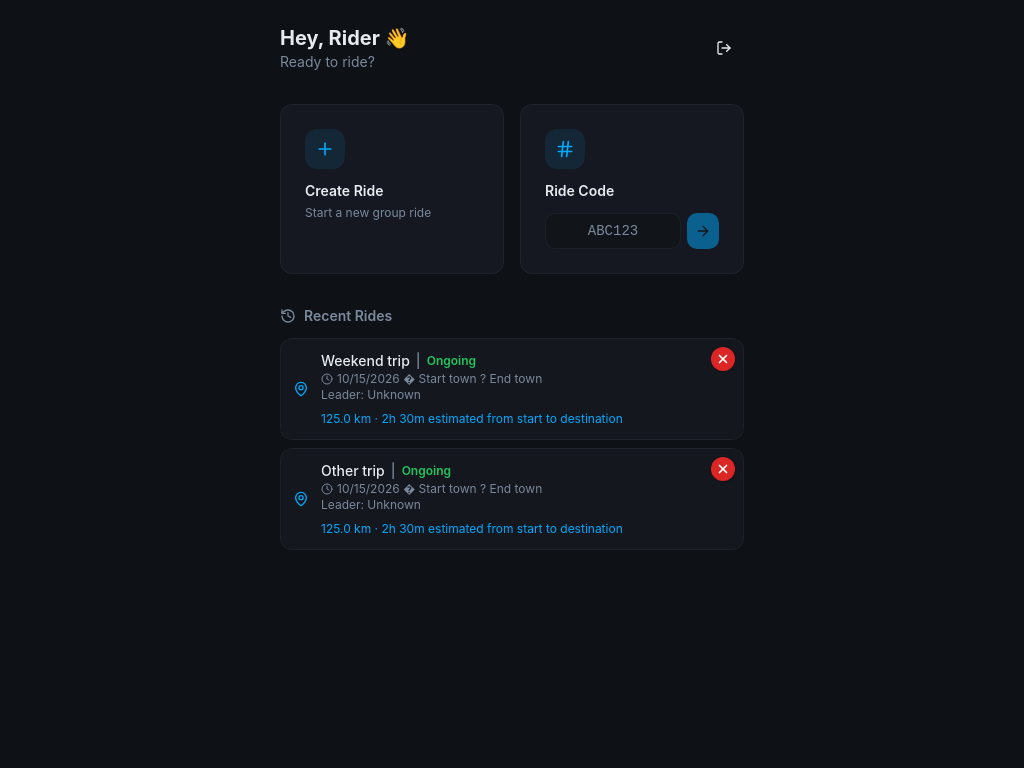
Test: ride details before joining › deletes a ride from my history only after confirming
Check: the text "Weekend trip" is shown, box [321, 351, 410, 371]
Click the button named "Delete Weekend trip from history".
click(723, 359)  # box [711, 347, 735, 371]
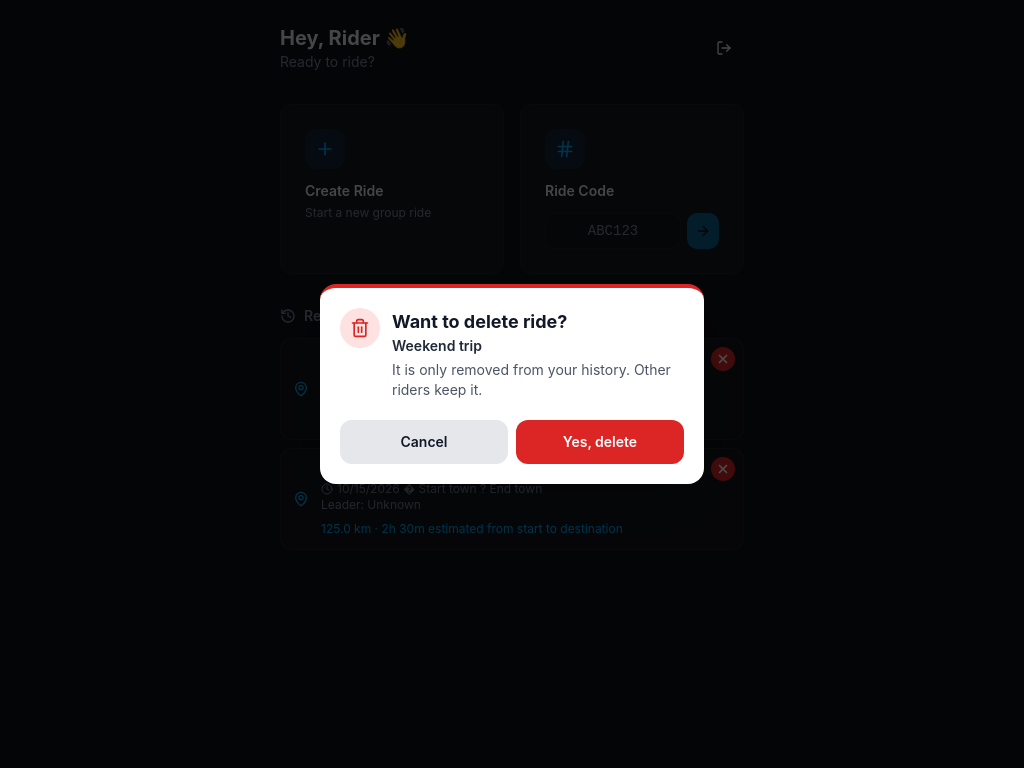
Check: the dialog shows "Want to delete ride?", box [392, 311, 567, 332]
Check: the text "It is only removed from your history. Other riders keep it." is shown, box [392, 360, 684, 400]
Click the button "Cancel".
click(424, 442)  # box [340, 420, 508, 464]
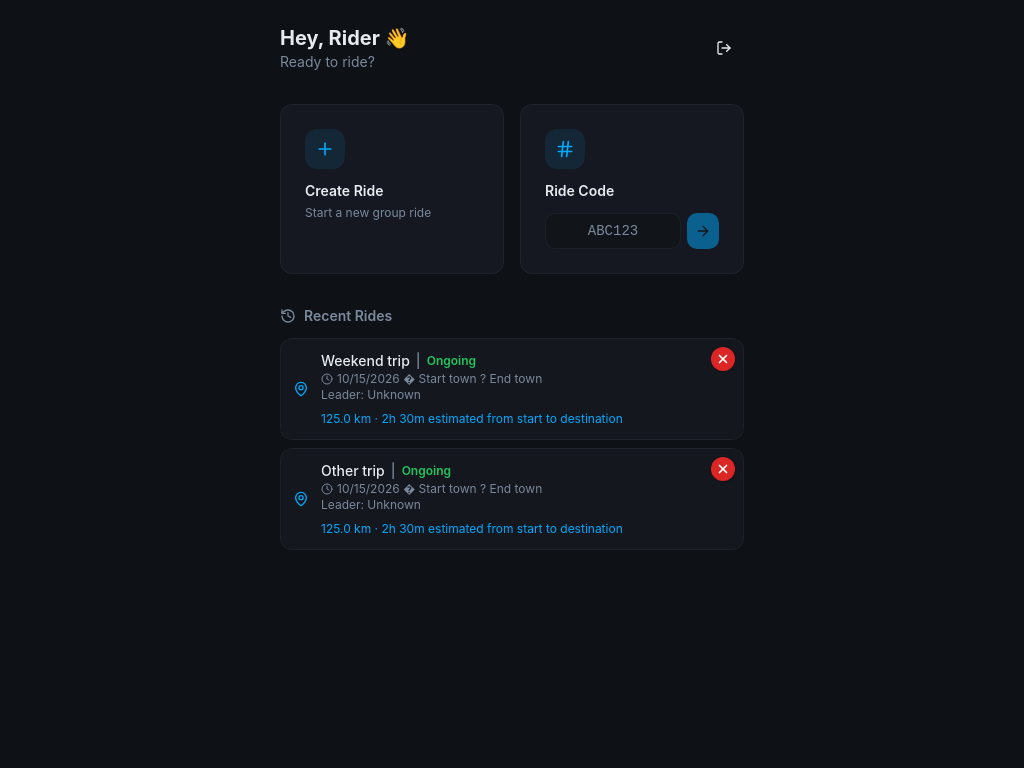
Check: the text "Weekend trip" is shown, box [321, 351, 410, 371]
Click the button named "Delete Weekend trip from history".
click(723, 359)  # box [711, 347, 735, 371]
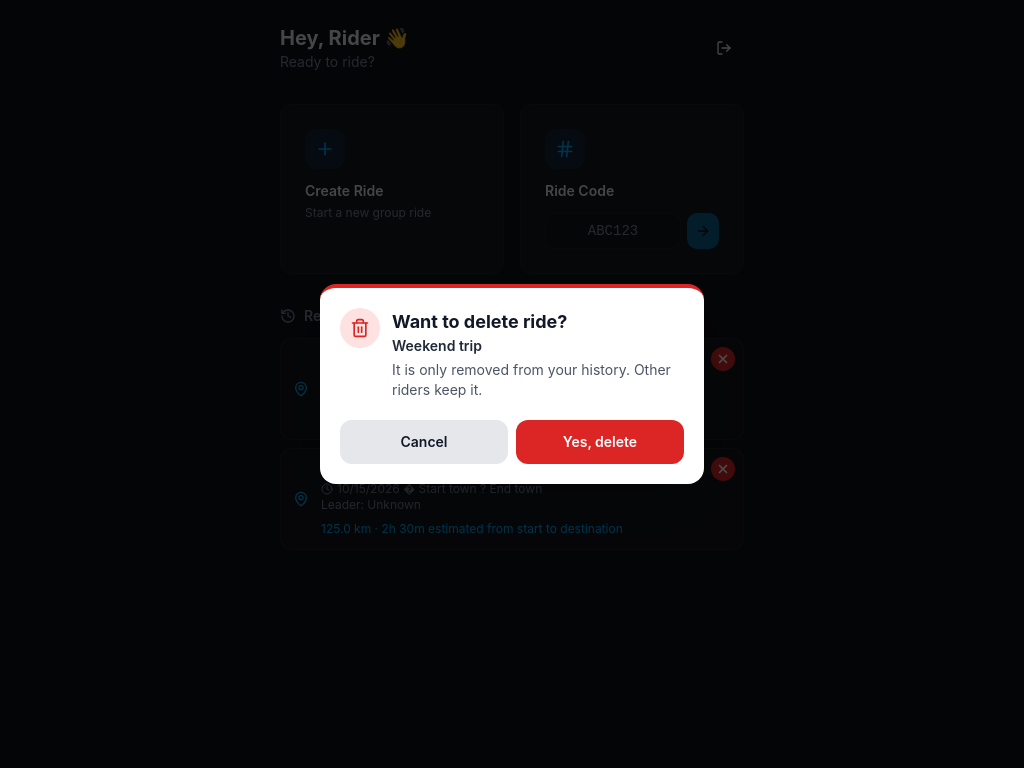
Click the button "Yes, delete".
click(600, 442)  # box [516, 420, 684, 464]
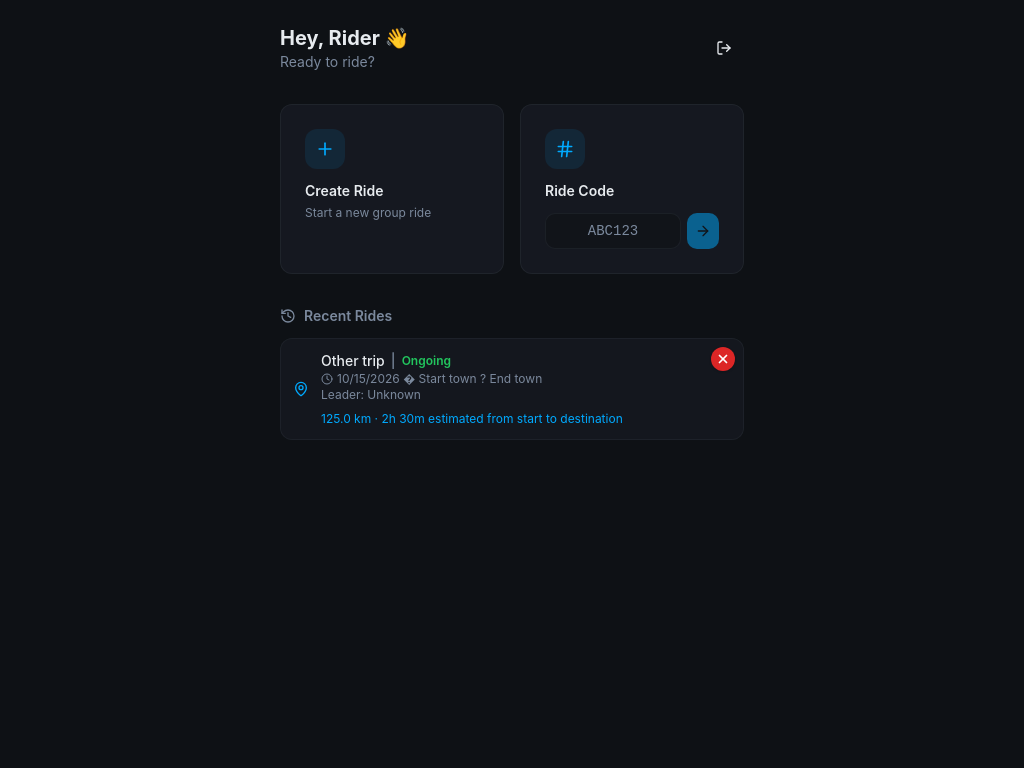
Check: the text "Other trip" is shown, box [321, 351, 385, 371]
Check: the button "Weekend trip" is gone
